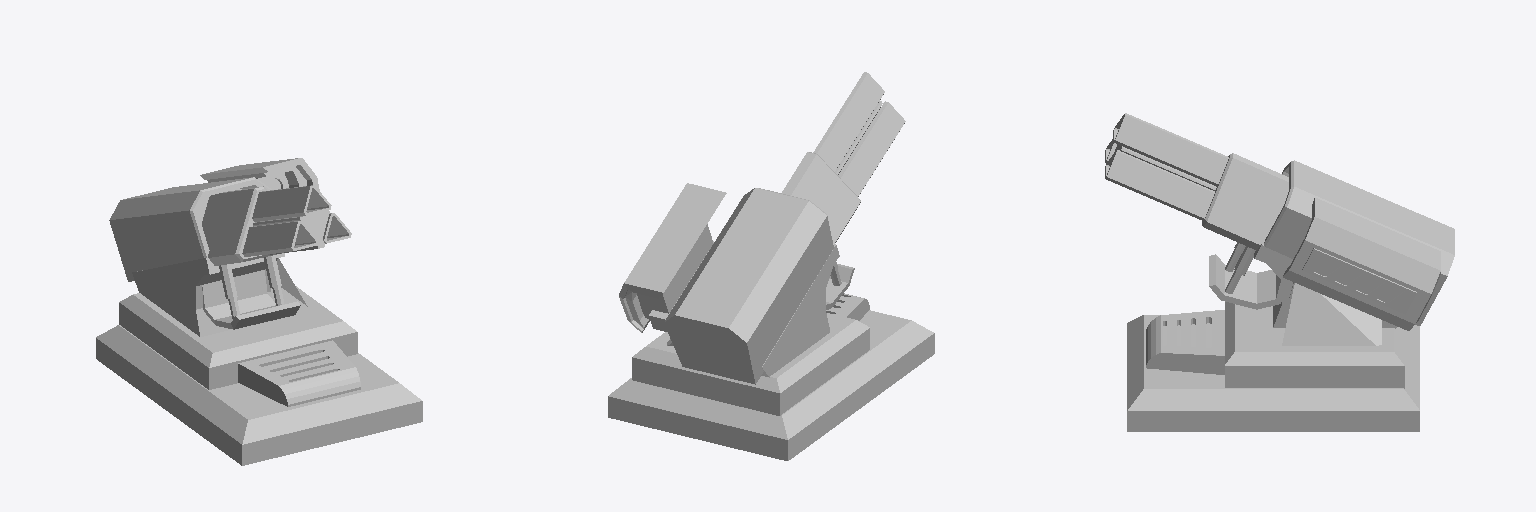
Rendered from Artillery_Mesh.obj.
The picture shows the model from 3 angles: view 1: azimuth 30°, elevation 25°; view 2: azimuth 150°, elevation 25°; view 3: azimuth 270°, elevation 25°; orthographic projection.
Visible parts, largest first — view 1: Artillery_Material_1; view 2: Artillery_Material_1; view 3: Artillery_Material_1.
Boxes of the visible parts, box(x1,y1,x2,y2) form: Artillery_Material_1: box(96, 158, 422, 465); Artillery_Material_1: box(608, 72, 934, 460); Artillery_Material_1: box(1105, 113, 1454, 431).
Bounding box in the file's own units: 2.09 × 2.93 × 3.51.